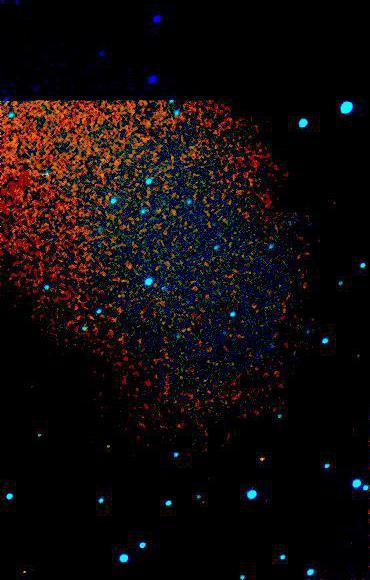star: (246, 445, 276, 475)
